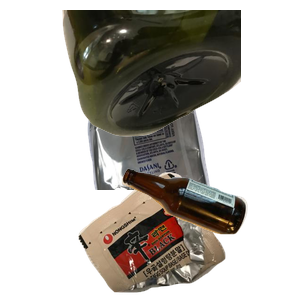glass: (119, 166, 300, 300)
metal: (85, 48, 300, 228)
plastic: (60, 10, 300, 139)
trash: (76, 170, 300, 300)
